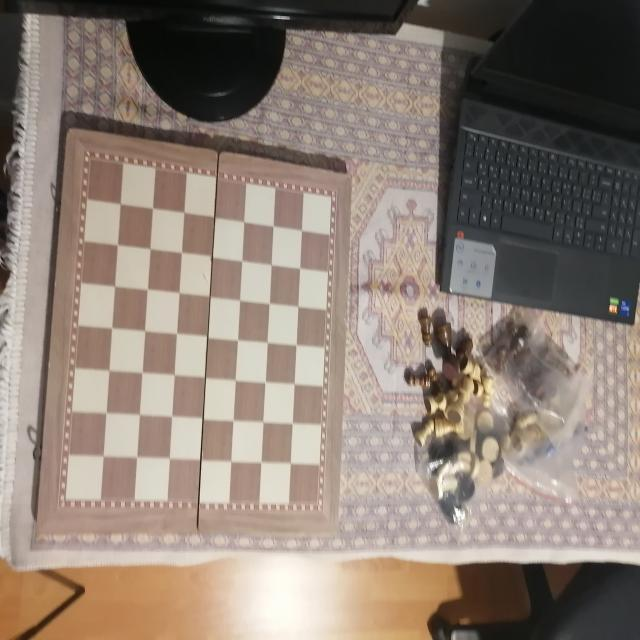corners: (328, 530, 343, 547), (62, 121, 76, 136), (342, 169, 356, 183), (32, 524, 44, 539)
